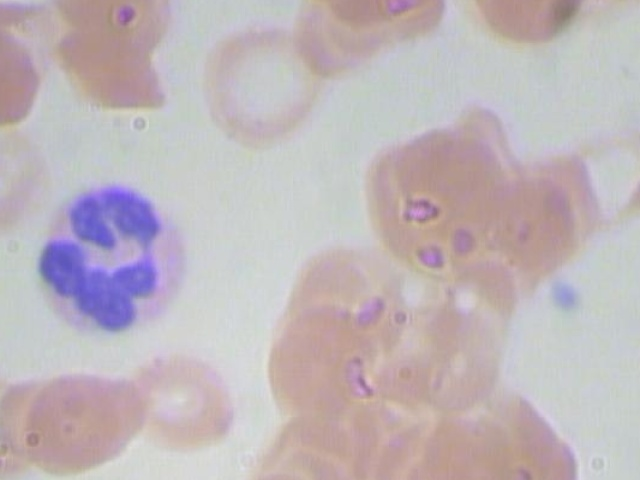Platelets: (546, 274, 590, 314)
RBC: (182, 19, 334, 159), (341, 124, 493, 264), (45, 8, 187, 127), (260, 294, 384, 420), (470, 156, 594, 282), (122, 339, 245, 466), (32, 354, 155, 480), (389, 288, 512, 414), (0, 352, 111, 478), (473, 395, 579, 480), (0, 7, 64, 136), (457, 0, 597, 52), (0, 117, 58, 234), (21, 0, 163, 33), (318, 0, 459, 33), (0, 352, 29, 478)
WBC: (17, 175, 214, 343)
